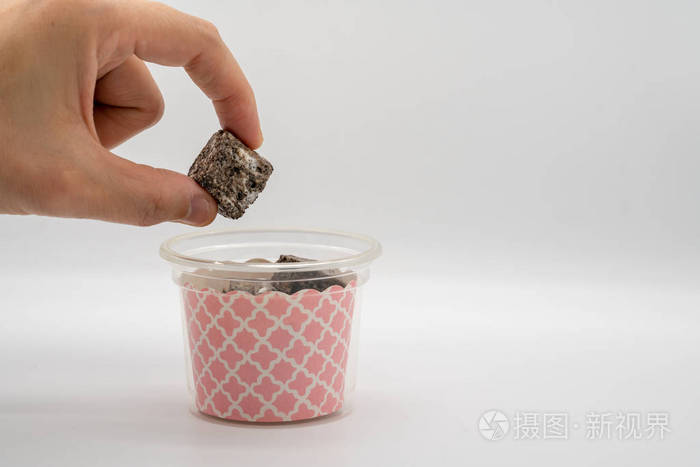no-phone: (1, 1, 279, 232)
